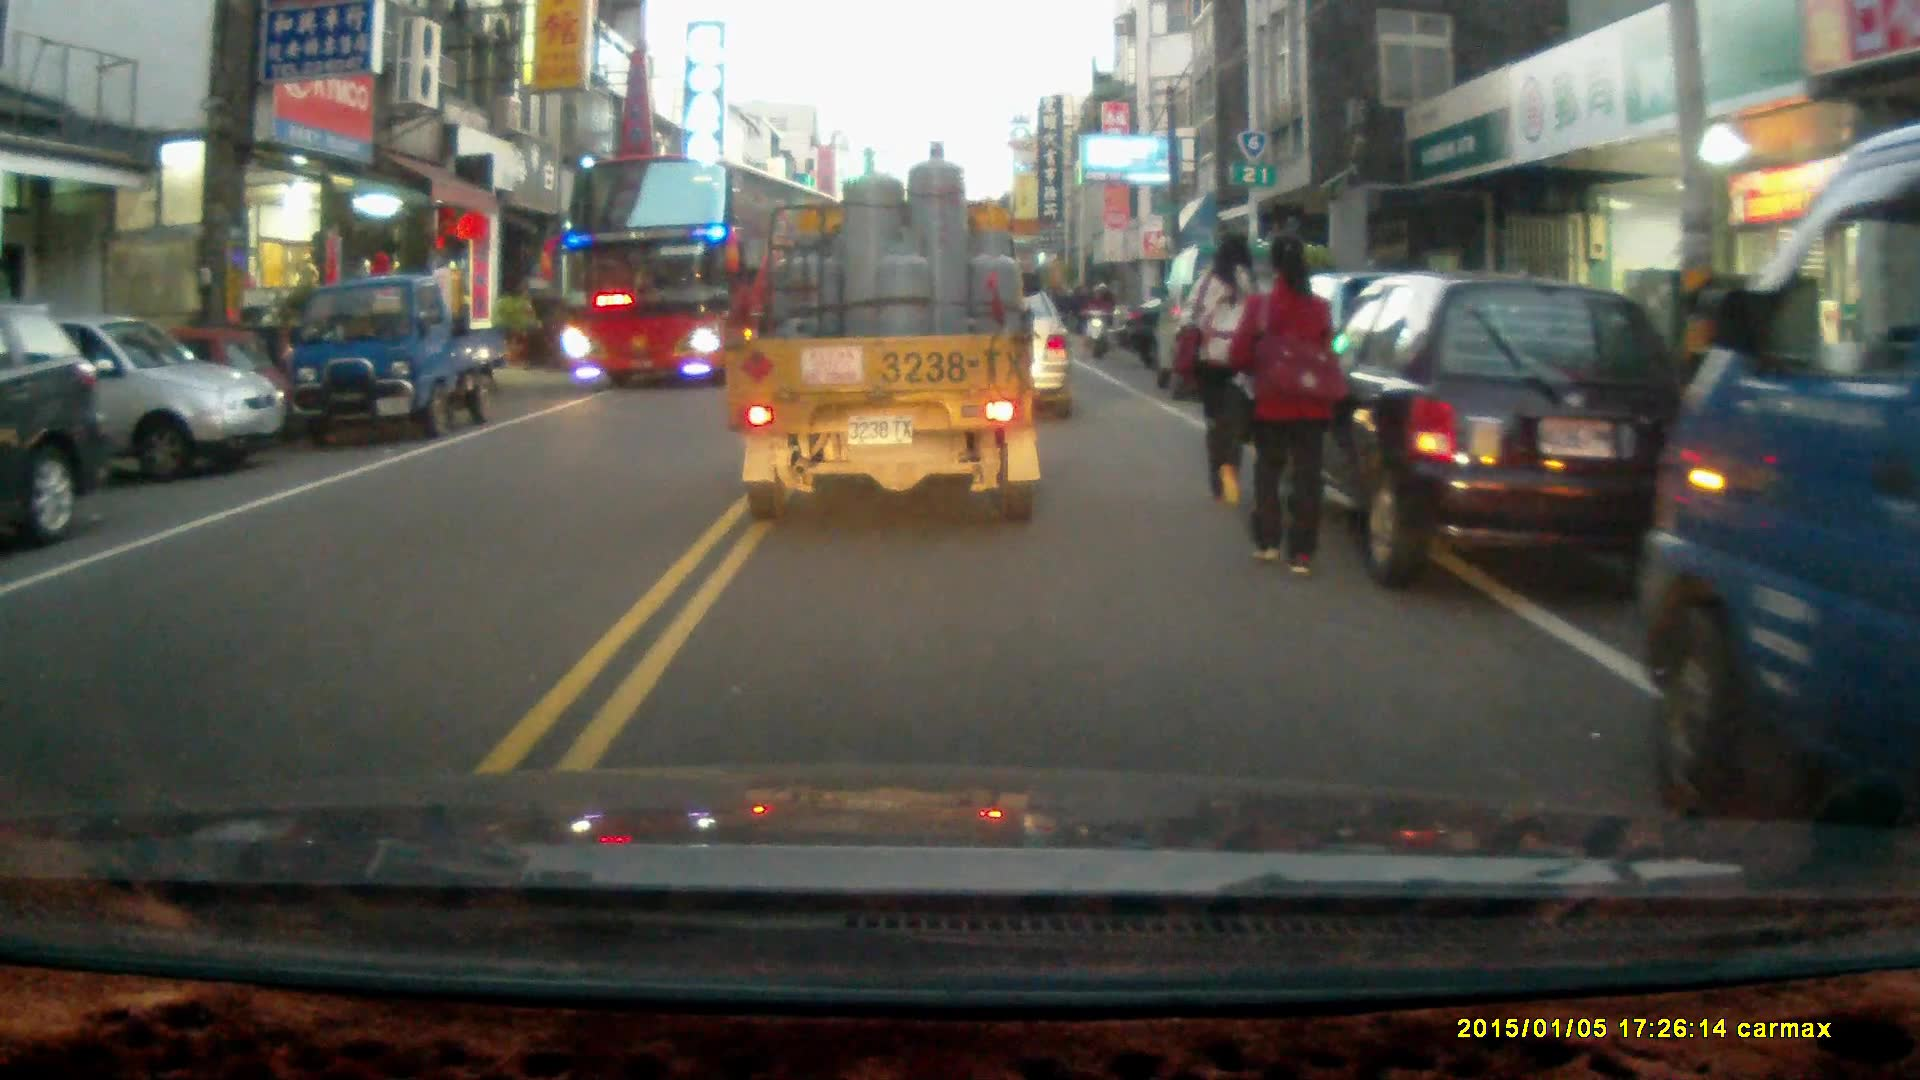pedestrian: (1226, 229, 1343, 578), (1183, 231, 1281, 516)
rider: (1081, 280, 1119, 360)
vehicle: (1290, 274, 1704, 598), (732, 142, 1050, 531), (561, 150, 845, 393), (1, 309, 288, 486), (287, 276, 511, 436), (1, 302, 115, 548)
